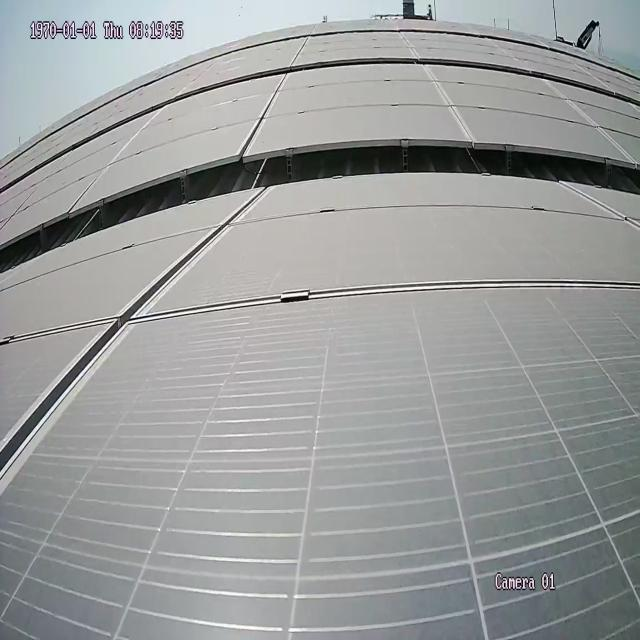interior panel: (3, 197, 635, 484), (424, 69, 475, 135), (239, 83, 287, 145)
outher panel: (0, 142, 638, 272)
